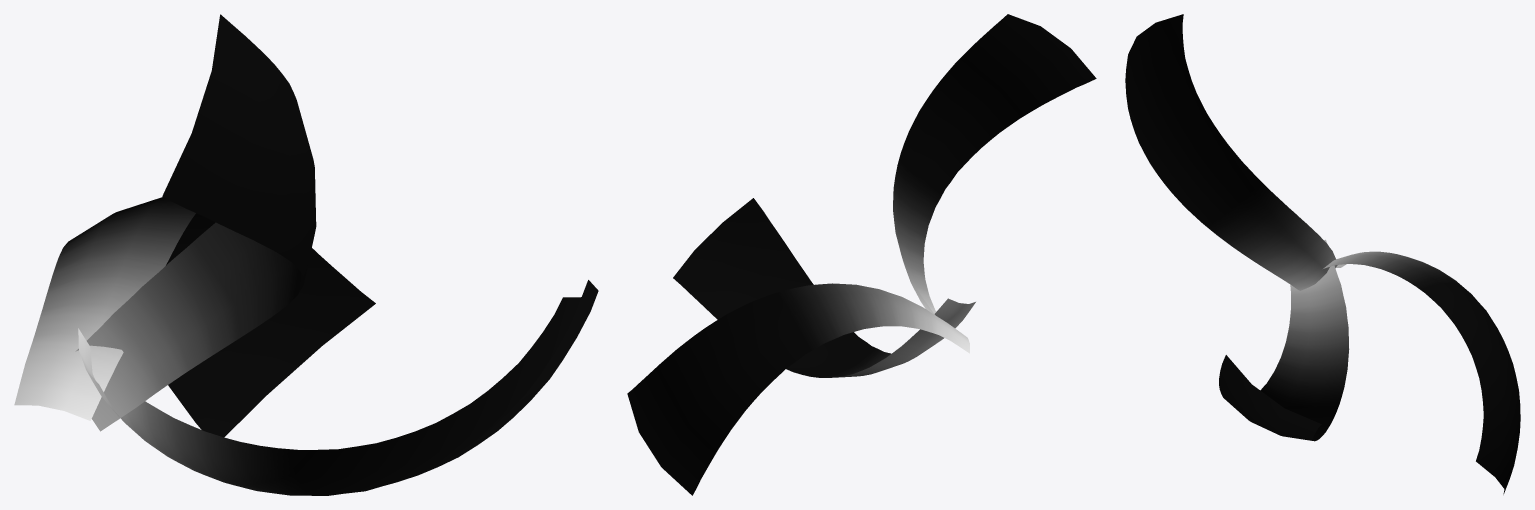
File: Helix_meshes001_2.fbx
The picture shows the model from 3 angles, left to right: view 1: azimuth 30°, elevation 25°; view 2: azimuth 150°, elevation 25°; view 3: azimuth 270°, elevation 25°; orthographic projection. The views are drawn at different scales.
Visible parts, largest first — view 1: HElix_Meshes002; view 2: HElix_Meshes002; view 3: HElix_Meshes002.
Boxes of the visible parts, x1,y1,x2,y2 form: HElix_Meshes002: (14,14,598,495); HElix_Meshes002: (627,14,1096,495); HElix_Meshes002: (1125,14,1520,494).
Bounding box in the file's own units: 42.57 × 50.15 × 44.31.
1 material, 1 textured.
